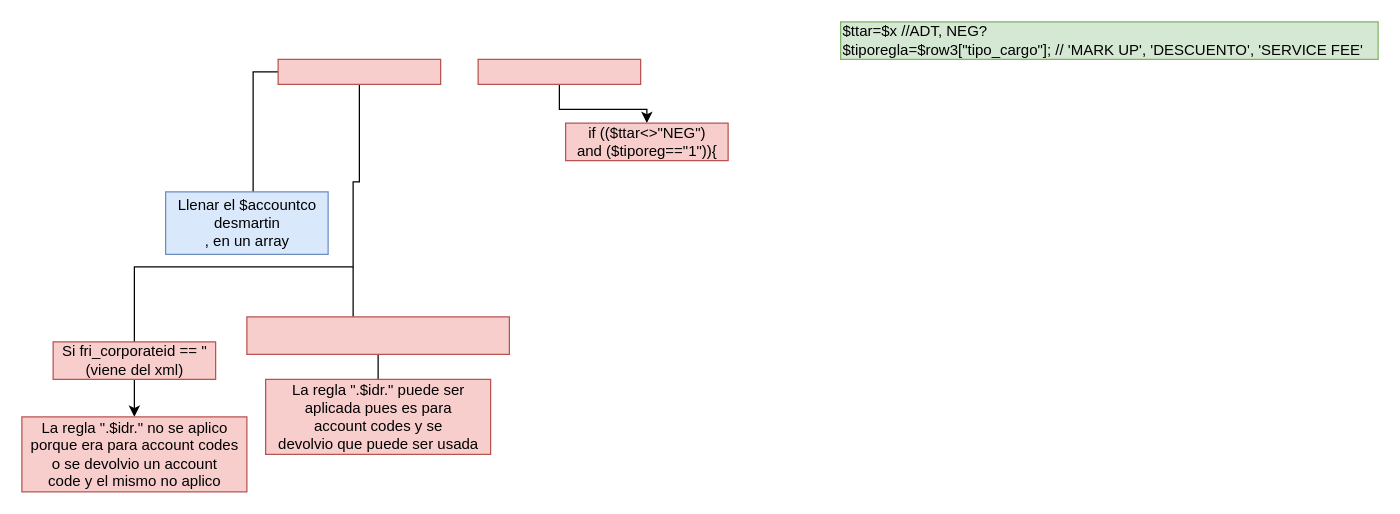
The diagram is 1400 pixels wide and 514 high, and some of its shapes have lost their labels. The shapes that lost their labels are listed below. From the top down, each one's centre as x and y in pixels, then its label:
point (359, 71): SI ACCOUNT CODE
point (559, 71): NO ACCOUNT CODE
point (377, 335): if ($_SESSION["regla_de_ account_code"]==$row3["eidregla"])
